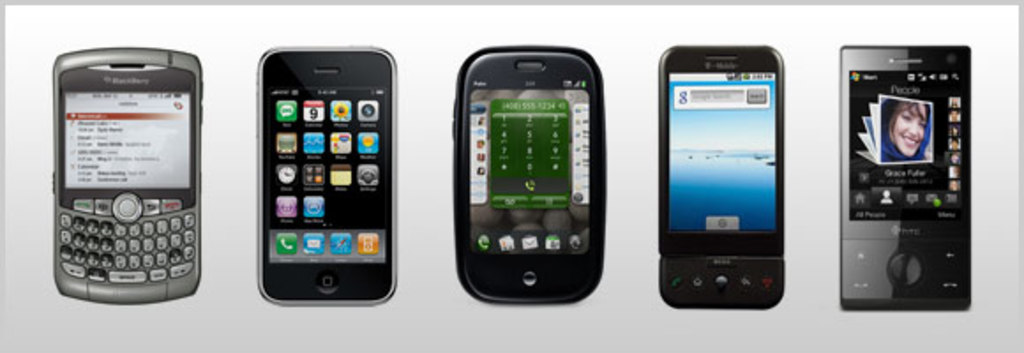mobile phone: (451, 45, 603, 305), (254, 44, 400, 307), (54, 49, 203, 305), (840, 44, 974, 310), (655, 44, 785, 312)
